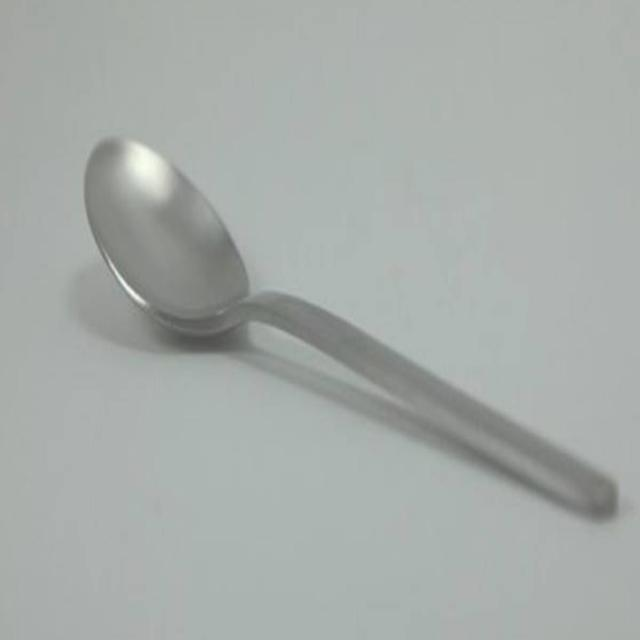spoon: (77, 115, 628, 529)
